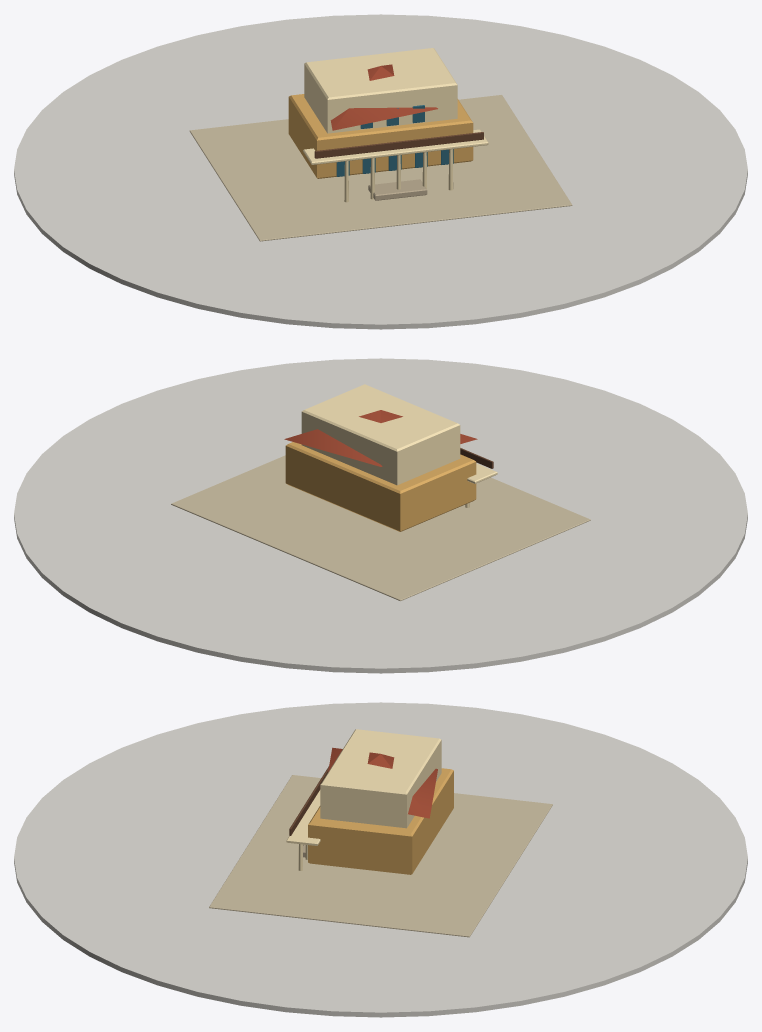
File: estoril.glb
The picture shows the model from 3 angles, top to bottom: view 1: azimuth 30°, elevation 25°; view 2: azimuth 150°, elevation 25°; view 3: azimuth 270°, elevation 25°; orthographic projection.
Parts seen in each view (by area): view 1: Base_Pedestal, Terreno_Estoril, Casa_Pavimento_Superior, Casa_Terreo, Casa_Telhado, Varanda_Guarda_Corpo, Varanda_Laje, Escada_Entrada; view 2: Base_Pedestal, Terreno_Estoril, Casa_Pavimento_Superior, Casa_Terreo, Casa_Telhado; view 3: Base_Pedestal, Terreno_Estoril, Casa_Pavimento_Superior, Casa_Terreo, Casa_Telhado, Varanda_Laje.
Boxes of the visible parts, box(x1,y1,x2,y2) form: Base_Pedestal: box(14, 14, 747, 329); Terreno_Estoril: box(189, 95, 572, 241); Casa_Pavimento_Superior: box(304, 48, 457, 133); Casa_Terreo: box(288, 94, 473, 178); Casa_Telhado: box(330, 64, 437, 130); Varanda_Guarda_Corpo: box(314, 132, 483, 158); Varanda_Laje: box(303, 129, 488, 164); Escada_Entrada: box(368, 179, 427, 200); Base_Pedestal: box(14, 358, 747, 673); Terreno_Estoril: box(171, 455, 590, 601); Casa_Pavimento_Superior: box(301, 384, 460, 485); Casa_Terreo: box(285, 442, 476, 531); Casa_Telhado: box(284, 410, 477, 466); Base_Pedestal: box(14, 702, 747, 1017); Terreno_Estoril: box(209, 775, 552, 937); Casa_Pavimento_Superior: box(320, 729, 441, 828); Casa_Terreo: box(308, 768, 453, 874); Casa_Telhado: box(328, 747, 437, 818); Varanda_Laje: box(286, 790, 320, 845).
Size of the model in its own units: 68 by 11.1 by 68.
